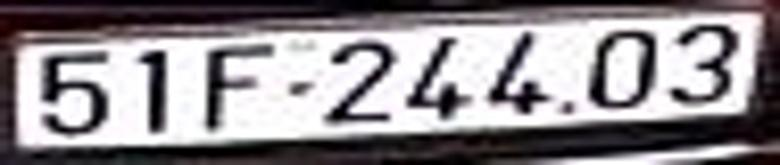-: (292, 82, 313, 95)
.: (562, 101, 574, 111)
0: (592, 29, 655, 109)
1: (141, 52, 168, 135)
2: (329, 41, 391, 122)
3: (674, 24, 736, 103)
4: (406, 35, 469, 119), (489, 32, 548, 113)
5: (41, 52, 109, 136)
F: (206, 47, 274, 128)
